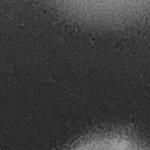colony: (28, 0, 150, 57), (30, 124, 150, 150)
